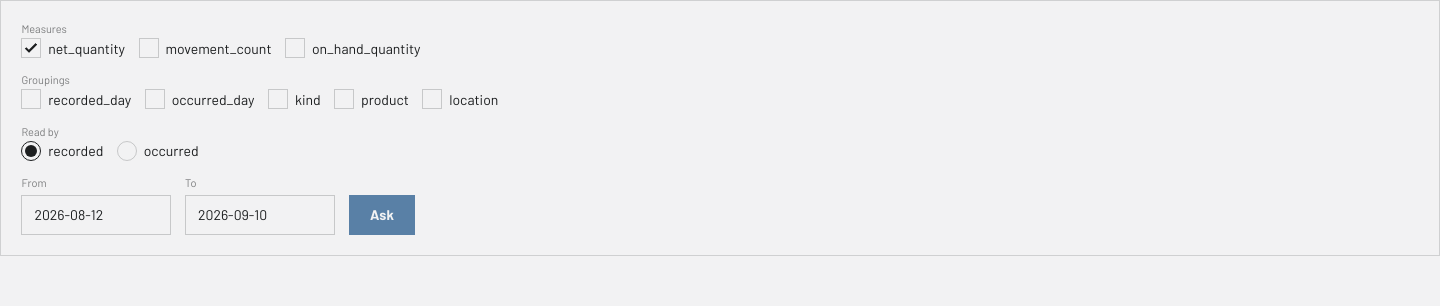
Test: composing a question › checks the draft as it changes, rather than only when asked
This screenshot has width=1440, height=306.
Expected: the button "Ask" is enabled, left=349, top=195, right=415, bottom=235
Click the checkbox labelled "net_quantity".
click(31, 48)  # box left=21, top=38, right=41, bottom=58
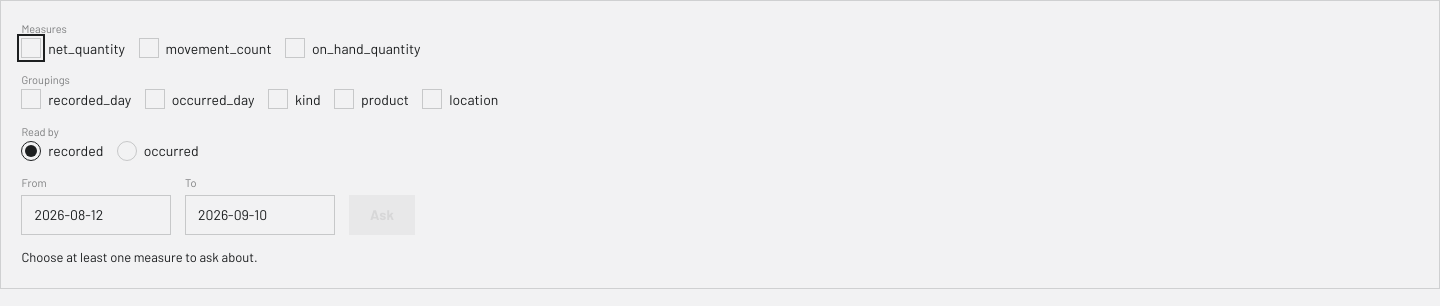
Expected: the button "Ask" is disabled, left=349, top=195, right=415, bottom=235
Expected: the list item "Choose at least one measure to ask about." is shown, left=21, top=249, right=258, bottom=265
